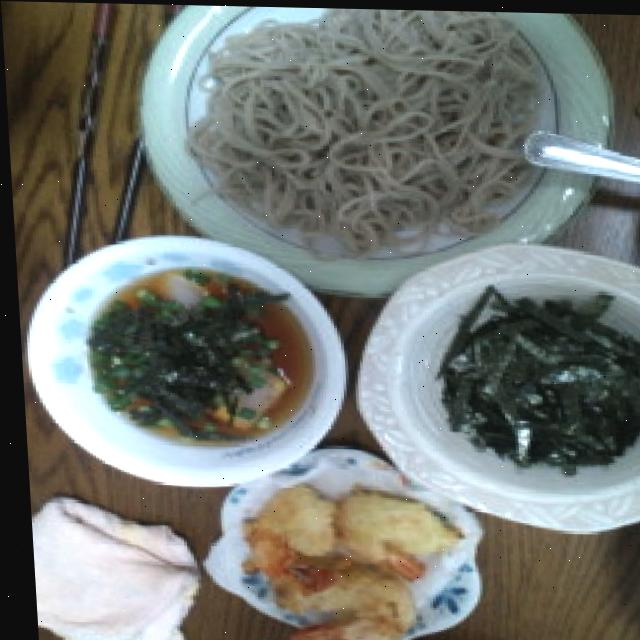面条主食: (140, 2, 600, 232)
